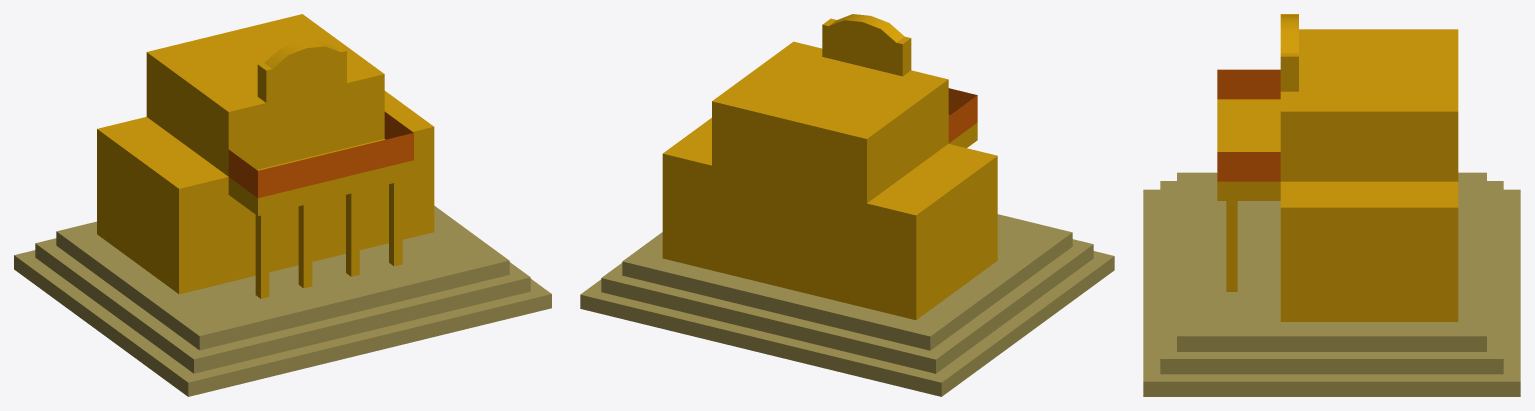
File: Casinha_1.fbx
3 renders of one model, left to right at view 1: azimuth 30°, elevation 25°; view 2: azimuth 150°, elevation 25°; view 3: azimuth 270°, elevation 25°, orthographic. The views are drawn at different scales.
Visible parts, largest first — view 1: Casinha_1; view 2: Casinha_1; view 3: Casinha_1.
Part boxes in pixels (x1,y1,x2,y2): Casinha_1: [14, 14, 551, 396]; Casinha_1: [580, 14, 1114, 396]; Casinha_1: [1143, 14, 1520, 396].
Bounding box in the file's own units: 150 × 102 × 124.
Materials: 1 (1 with a texture image).
